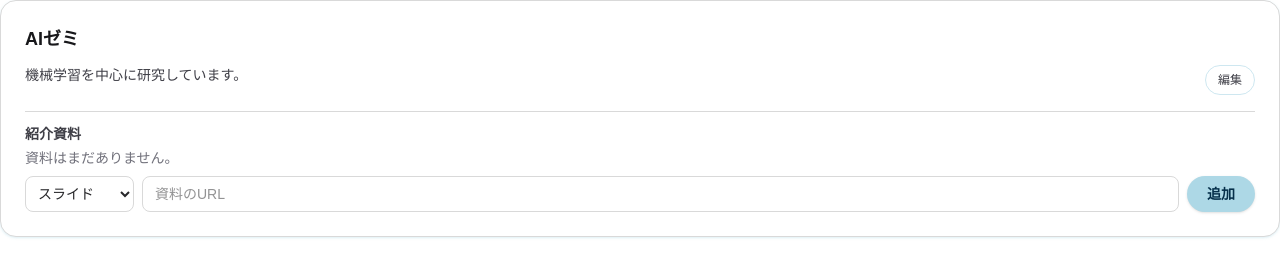
Test: TeacherSeminarView › adds a material
Type "https://example.com/new.pdf" into the field with placeholder "資料のURL" at x=660, y=194, box x1=142 y1=176 x2=1179 y2=212
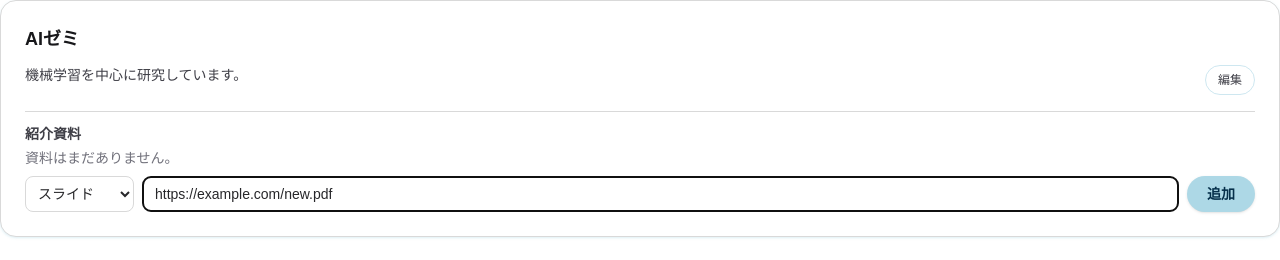
Click the button "追加" at x=1221, y=194, box x1=1187 y1=176 x2=1255 y2=212
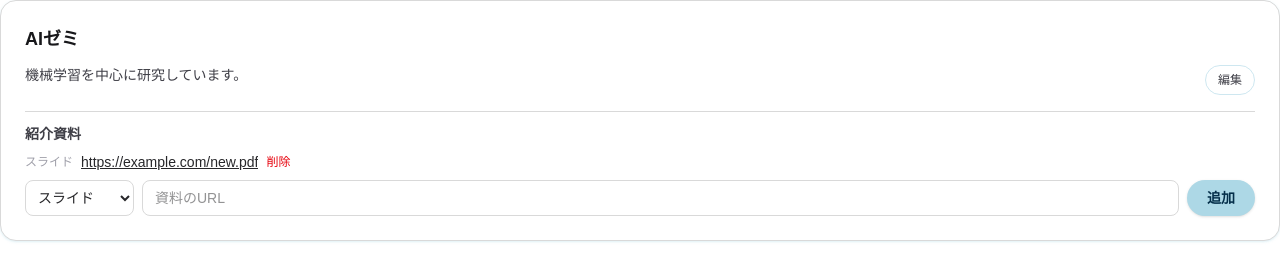
Expected: the link "https://example.com/new.pdf" is shown, x1=81 y1=152 x2=258 y2=172
